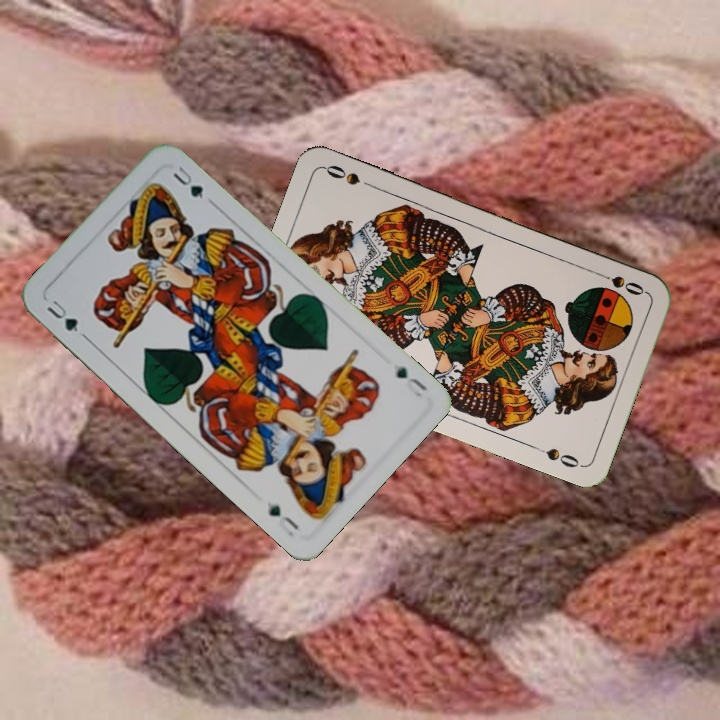GU: (42, 295, 81, 335), (391, 362, 431, 400)
SO: (591, 267, 648, 298)
